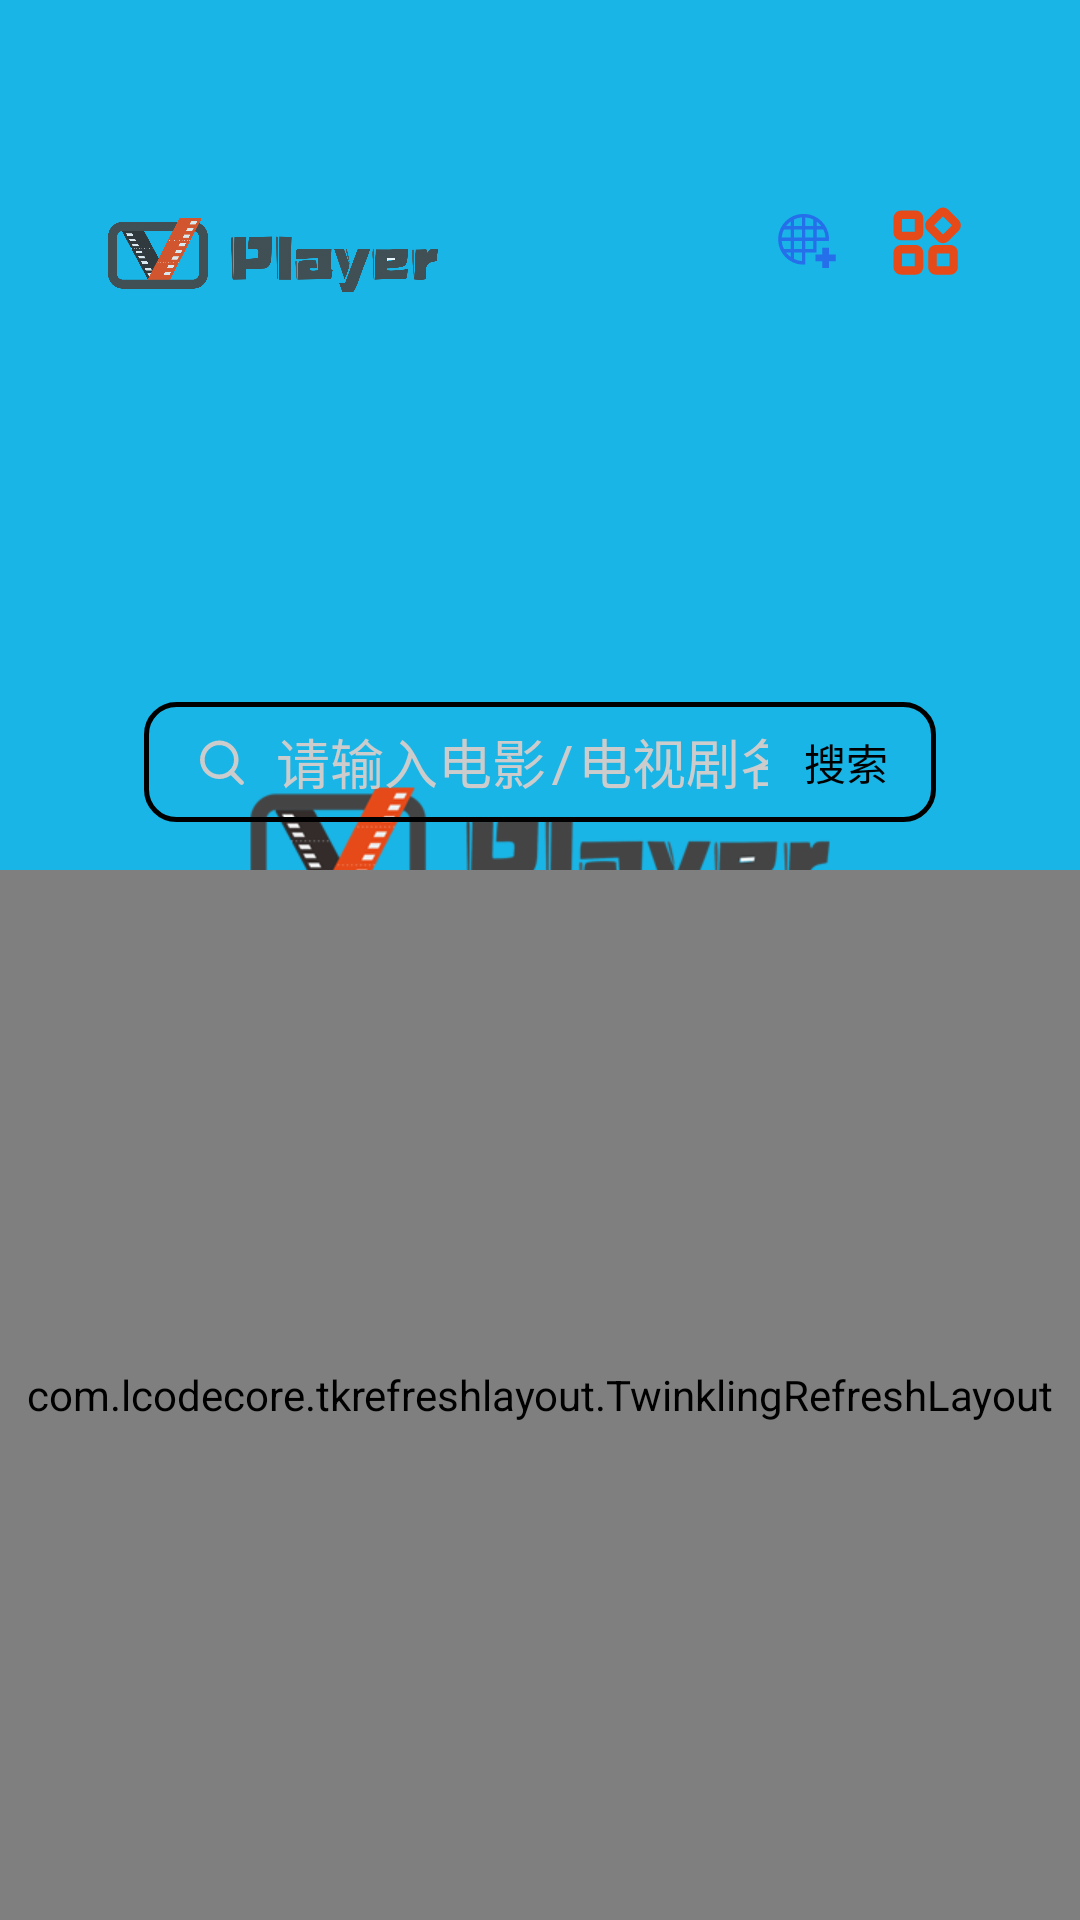

Where to tap for icons on this 1080w x 1920h app screen, as point (x, y):
menu: point (927, 241)
